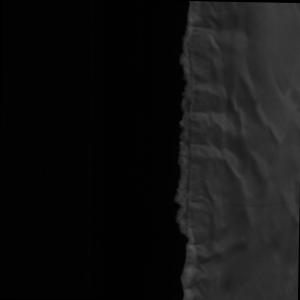Damage: (170, 1, 205, 300)
Wrinkle: (206, 2, 300, 300)
